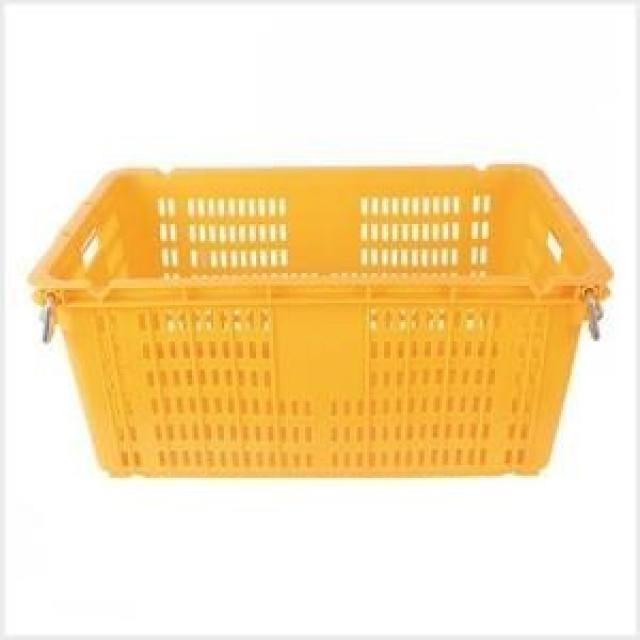basket: (32, 166, 611, 478)
